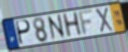8: (32, 16, 49, 44)
F: (77, 8, 94, 37)
H: (61, 11, 84, 40)
N: (46, 13, 67, 42)
P: (15, 19, 32, 46)
X: (94, 7, 114, 34)
